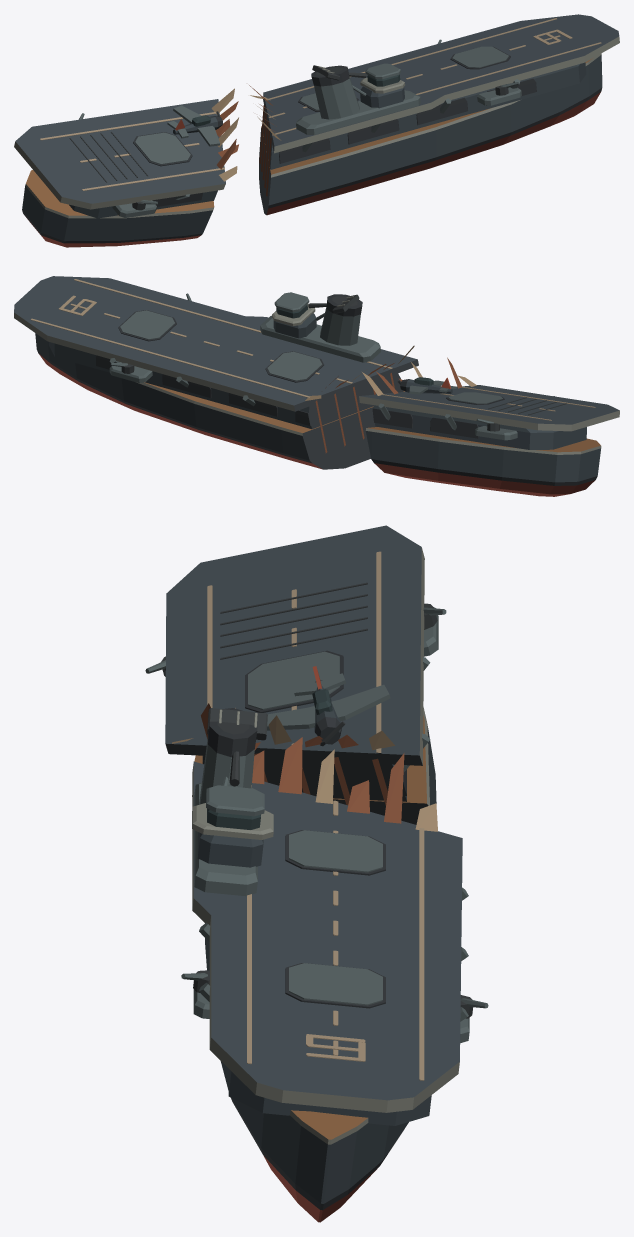
The model's file is enterprise_cv6_destroyed.glb.
The picture shows the model from 3 angles, top to bottom: view 1: azimuth 30°, elevation 25°; view 2: azimuth 150°, elevation 25°; view 3: azimuth 270°, elevation 25°; orthographic projection. The views are drawn at different scales.
Visible parts, largest first — view 1: enterprise_cv6_destroyed; view 2: enterprise_cv6_destroyed; view 3: enterprise_cv6_destroyed.
Boxes of the visible parts, box(x1,y1,x2,y2) form: enterprise_cv6_destroyed: box(14, 14, 619, 247); enterprise_cv6_destroyed: box(14, 276, 619, 496); enterprise_cv6_destroyed: box(145, 525, 488, 1222).
Size of the model in its own units: 3.84 by 0.9101 by 1.02.
